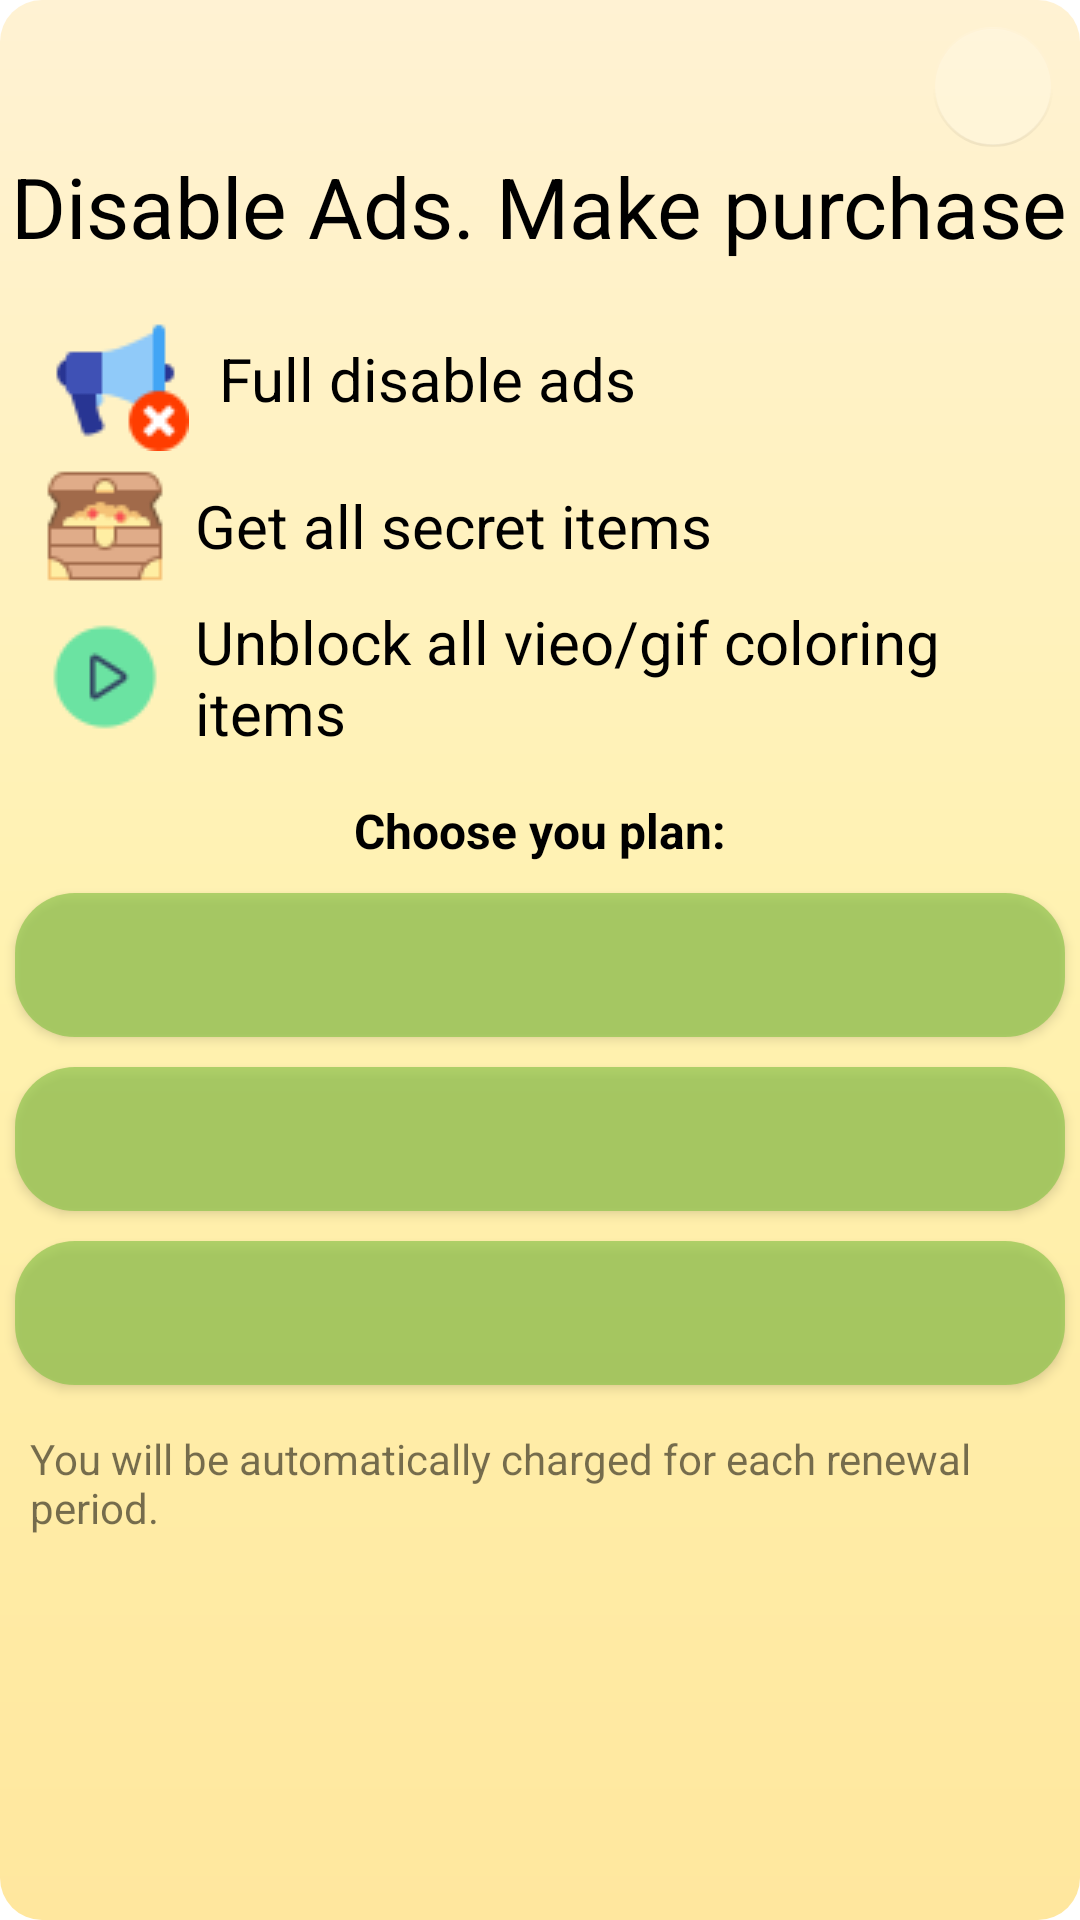

Screen size 1080 × 1920. Icon name, then its box in pixels as {"x1": x1, "y1": y1, "x2": x2, "y2": y2}:
unblock video: {"x1": 53, "y1": 625, "x2": 157, "y2": 729}
